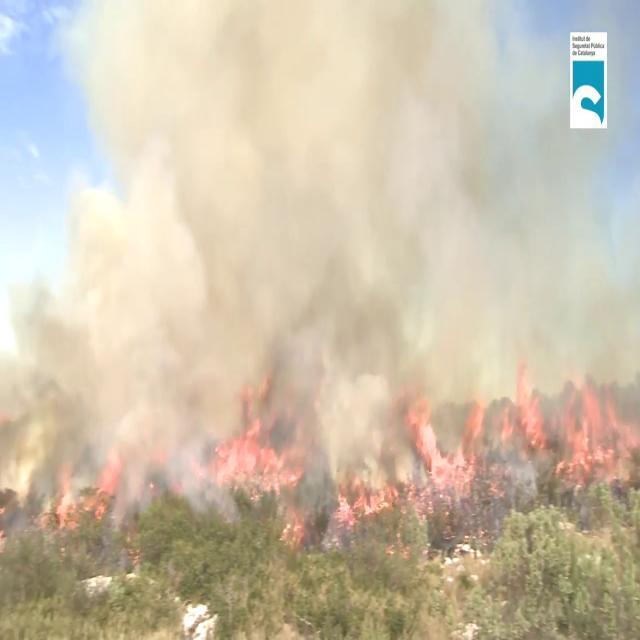Fire: (212, 388, 312, 534), (561, 378, 640, 496), (51, 452, 122, 530)
Smoke: (1, 0, 636, 540)
